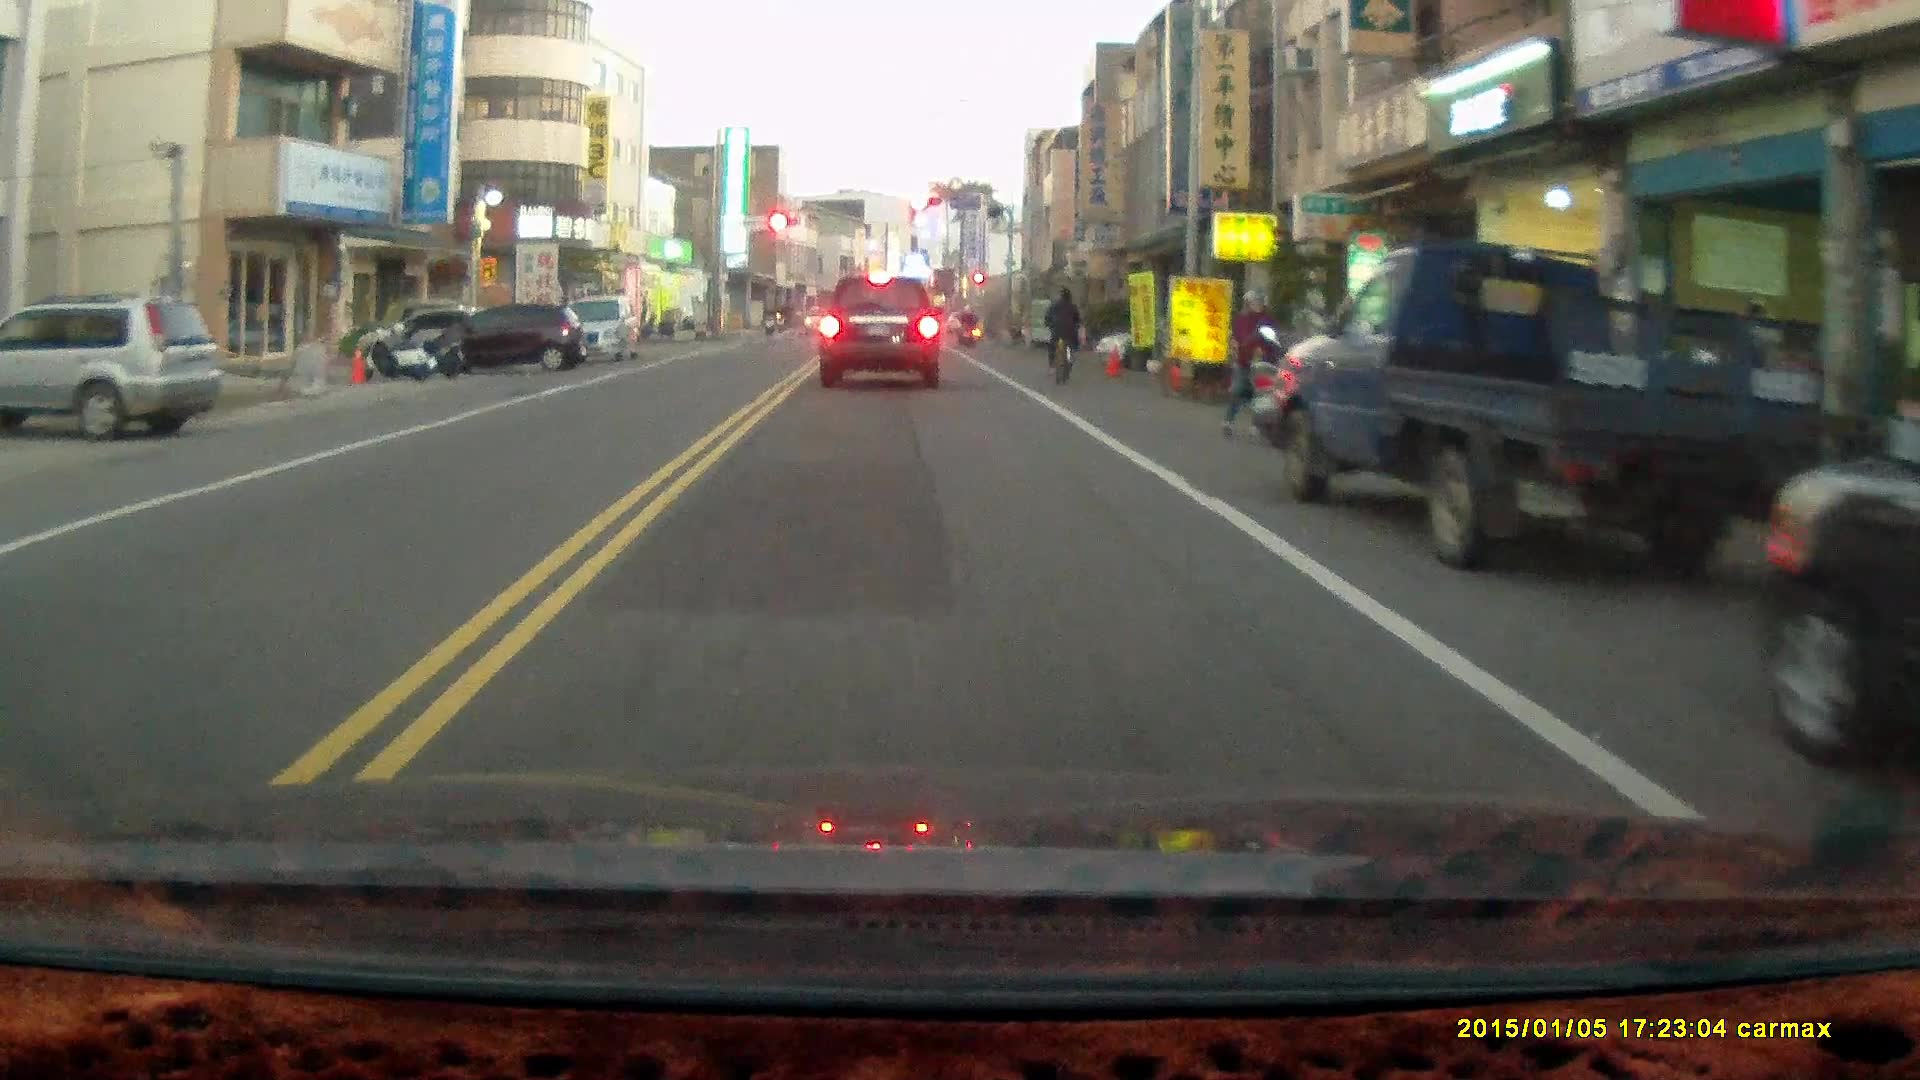pedestrian: (1220, 289, 1273, 441)
rider: (1042, 284, 1081, 389)
vehicle: (1255, 239, 1822, 576), (1, 296, 222, 440), (817, 271, 945, 395), (436, 301, 589, 375), (533, 292, 647, 366)
